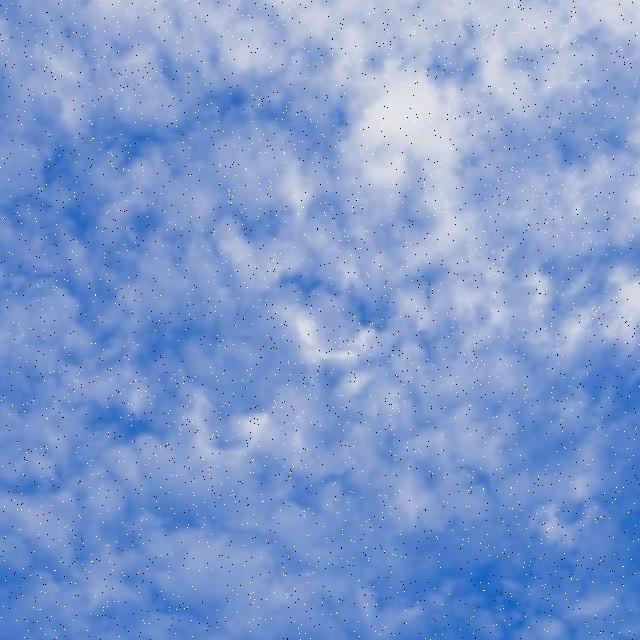Ac: (1, 15, 640, 479)
